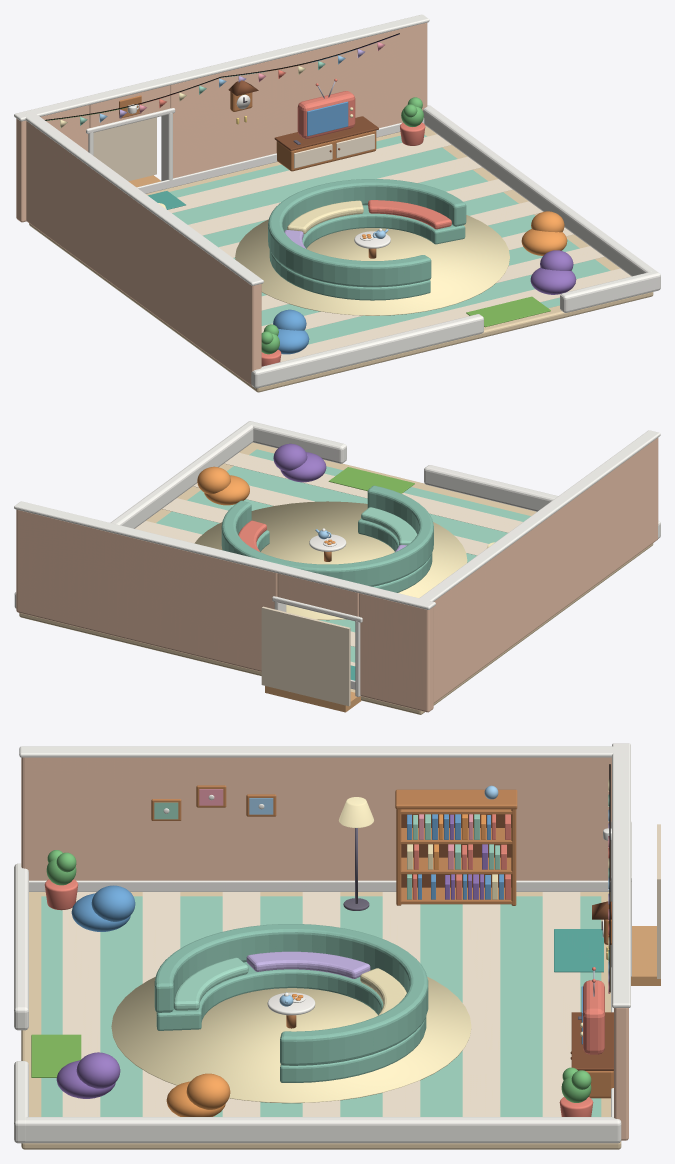
The model's file is room_living.glb.
The picture shows the model from 3 angles, top to bottom: view 1: azimuth 30°, elevation 25°; view 2: azimuth 150°, elevation 25°; view 3: azimuth 270°, elevation 25°; orthographic projection. The views are drawn at different scales.
Visible parts, largest first — view 1: wall_W_0, wall_N_1, rug_ring, NAV_floor, sofa_back, wall_E_low_0, wall_S_low_0, sofa_base, floor, wall_N_cap, floor_plank_13, wall_W_cap (+28 smaller); view 2: wall_N_1, wall_W_0, rug_ring, wall_N_0, doorway_N_view, sofa_back, NAV_floor, wall_N_cap, floor, wall_W_cap, wall_E_low_0, floor_plank_1 (+18 smaller); view 3: wall_W_0, NAV_floor, rug_ring, wall_E_low_0, sofa_back, floor, floor_plank_11, sofa_base, wall_W_cap, floor_plank_13, floor_plank_1, wall_W_skirting (+37 smaller).
Part boxes in pixels (x1,y1,x2,y2): wall_W_0: [26, 121, 261, 386]; wall_N_1: [170, 22, 427, 178]; rug_ring: [235, 215, 509, 315]; NAV_floor: [169, 134, 610, 344]; sofa_back: [268, 179, 466, 287]; wall_E_low_0: [423, 105, 655, 276]; wall_S_low_0: [251, 314, 483, 388]; sofa_base: [269, 205, 465, 300]; floor: [29, 126, 653, 392]; wall_N_cap: [14, 14, 429, 121]; floor_plank_13: [168, 134, 451, 213]; wall_W_cap: [23, 112, 263, 285]; wall_N_1: [16, 509, 277, 671]; wall_W_0: [433, 438, 658, 703]; rug_ring: [194, 501, 467, 620]; wall_N_0: [359, 593, 433, 712]; doorway_N_view: [261, 606, 350, 706]; sofa_back: [221, 485, 433, 586]; NAV_floor: [156, 449, 530, 662]; wall_N_cap: [14, 501, 435, 609]; floor: [19, 442, 653, 714]; wall_W_cap: [417, 430, 660, 602]; wall_E_low_0: [14, 423, 253, 608]; floor_plank_1: [224, 452, 522, 532]; wall_W_0: [21, 757, 611, 880]; NAV_floor: [41, 896, 601, 1116]; rug_ring: [111, 977, 471, 1103]; wall_E_low_0: [25, 1117, 621, 1143]; sofa_back: [154, 924, 428, 1065]; floor: [21, 892, 621, 1149]; floor_plank_11: [462, 904, 500, 1116]; sofa_base: [156, 962, 426, 1082]; wall_W_cap: [19, 746, 621, 757]; floor_plank_13: [542, 892, 580, 1116]; floor_plank_1: [62, 892, 100, 1116]; wall_W_skirting: [29, 880, 610, 891].
Bounding box in the file's own units: 6.25 × 1.63 × 6.47.
2 materials, 2 textured.
